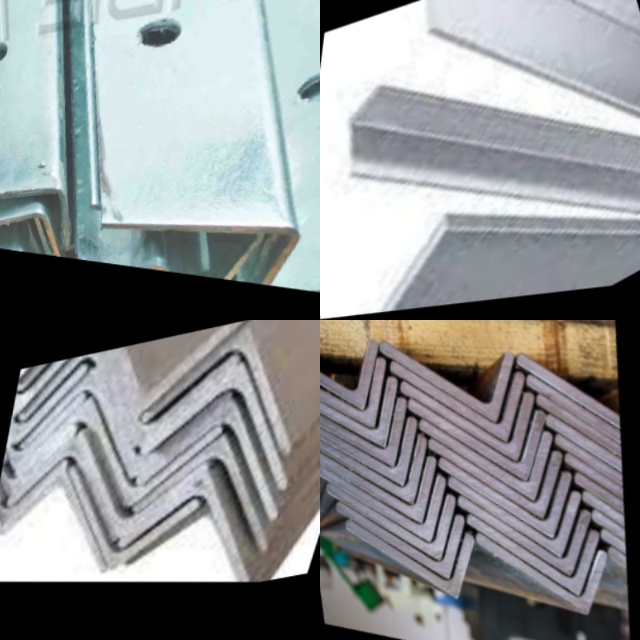Angle: (135, 348, 319, 513), (130, 380, 309, 539), (137, 320, 320, 473), (126, 416, 299, 572), (112, 456, 288, 608), (77, 321, 242, 461), (60, 413, 214, 556), (51, 446, 206, 584), (73, 389, 226, 526), (79, 368, 230, 495), (74, 321, 243, 434), (0, 457, 126, 587), (343, 223, 485, 317), (455, 490, 600, 582), (101, 219, 298, 286), (444, 470, 588, 561), (418, 412, 559, 503), (408, 394, 550, 483), (344, 511, 481, 603), (402, 373, 539, 464), (465, 508, 605, 597), (438, 452, 578, 540), (475, 530, 610, 620), (429, 434, 568, 521), (381, 336, 518, 422), (390, 357, 527, 442), (327, 478, 458, 564), (320, 458, 448, 543), (338, 498, 467, 582), (320, 441, 440, 523), (514, 352, 630, 435), (3, 361, 87, 475), (320, 422, 432, 506), (320, 403, 425, 486), (527, 373, 630, 452), (0, 396, 75, 498), (320, 388, 412, 469), (534, 391, 631, 467), (7, 358, 85, 449), (543, 415, 632, 491), (0, 433, 68, 527), (550, 435, 633, 509), (320, 371, 400, 445), (331, 90, 399, 173), (563, 456, 633, 523), (320, 358, 387, 427), (13, 355, 85, 418), (0, 188, 71, 248), (320, 331, 378, 402), (572, 475, 634, 538), (579, 496, 634, 556), (0, 208, 59, 255), (590, 513, 635, 572), (422, 0, 479, 26)
